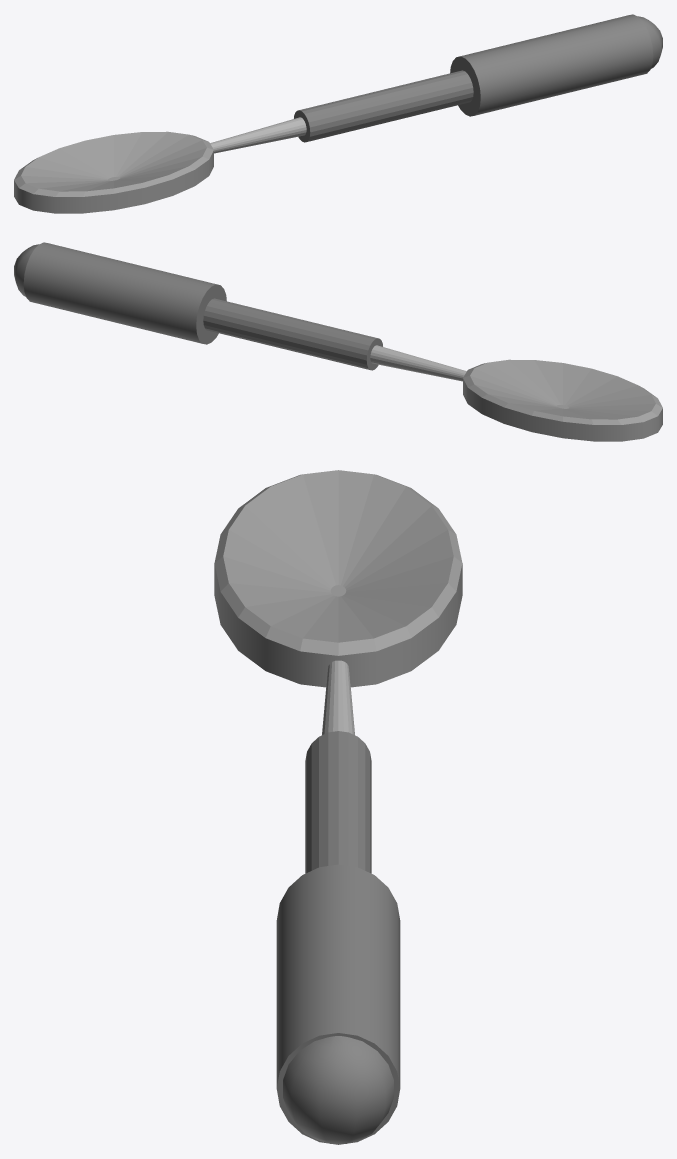
File: ServingSpoonModel.fbx
3 views of the same model, one above another, from view 1: azimuth 30°, elevation 25°; view 2: azimuth 150°, elevation 25°; view 3: azimuth 270°, elevation 25° (orthographic). The views are drawn at different scales.
Visible parts, largest first — view 1: ServingSpoonModel; view 2: ServingSpoonModel; view 3: ServingSpoonModel.
Boxes of the visible parts, x1,y1,x2,y2 form: ServingSpoonModel: (14,14,662,213); ServingSpoonModel: (14,242,662,441); ServingSpoonModel: (214,470,462,1144).
Size of the model in its own units: 54.79 by 4.58 by 9.2.
